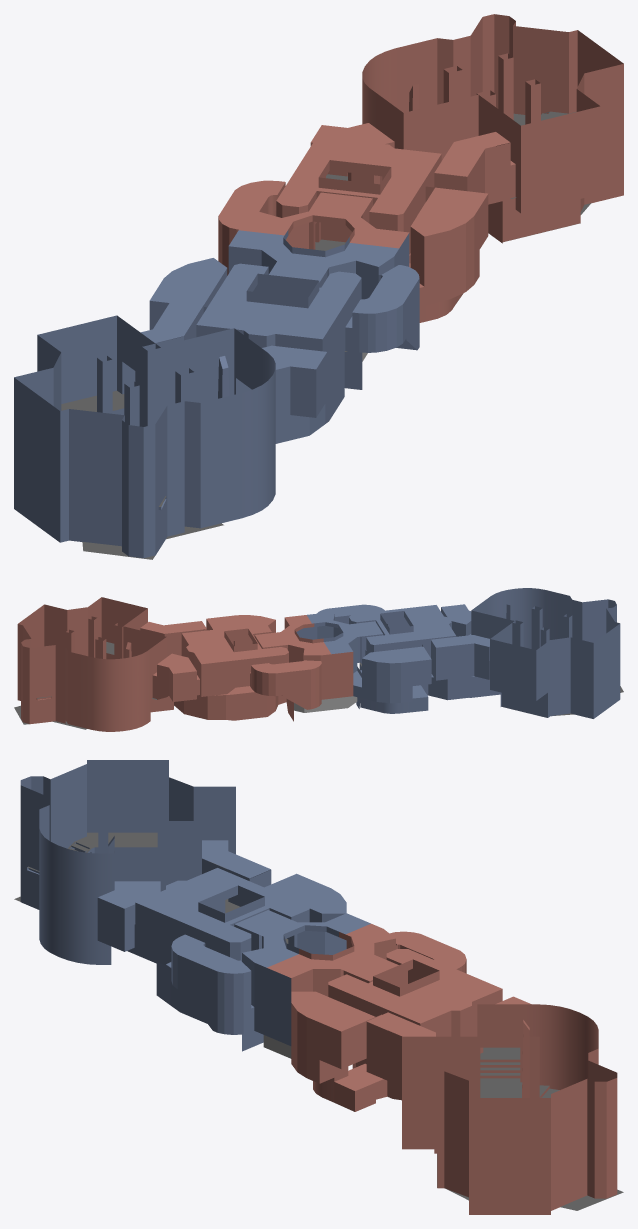
3 views of the same model, one above another, from view 1: azimuth 30°, elevation 25°; view 2: azimuth 150°, elevation 25°; view 3: azimuth 270°, elevation 25° (orthographic). The views are drawn at different scales.
Visible parts, largest first — view 1: Blue_side, RedSide; view 2: Blue_side, RedSide; view 3: RedSide, Blue_side.
Boxes of the visible parts, x1,y1,x2,y2 form: Blue_side: [14, 230, 463, 559]; RedSide: [218, 14, 623, 306]; Blue_side: [294, 588, 623, 718]; RedSide: [14, 597, 330, 731]; RedSide: [254, 923, 623, 1214]; Blue_side: [14, 760, 387, 1111].
Size of the model in its own units: 416000 by 70400 by 317440.
